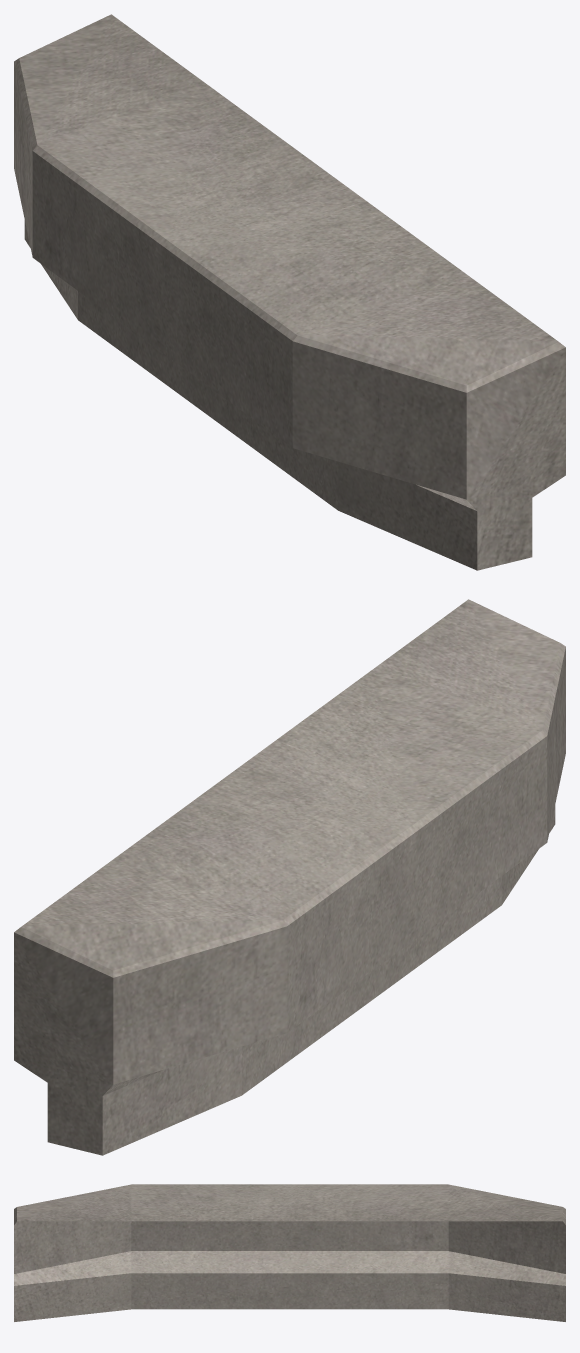
File: Main_Console.glb
The picture shows the model from 3 angles, top to bottom: view 1: azimuth 30°, elevation 25°; view 2: azimuth 150°, elevation 25°; view 3: azimuth 270°, elevation 25°; orthographic projection. The views are drawn at different scales.
Visible parts, largest first — view 1: MainConsole; view 2: MainConsole; view 3: MainConsole.
Boxes of the visible parts, bbox=[...] form: MainConsole: bbox=[14, 14, 565, 570]; MainConsole: bbox=[14, 599, 565, 1155]; MainConsole: bbox=[14, 1184, 565, 1321].
Bounding box in the file's own units: 2 × 2.23 × 8.86.
1 material, 1 textured.
